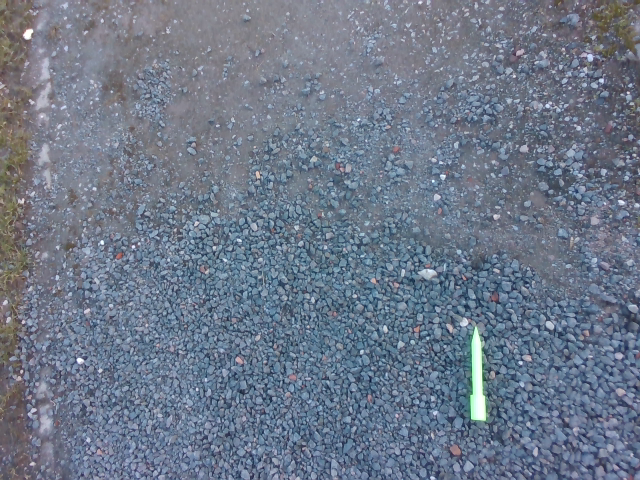Probe: (464, 321, 488, 427)
